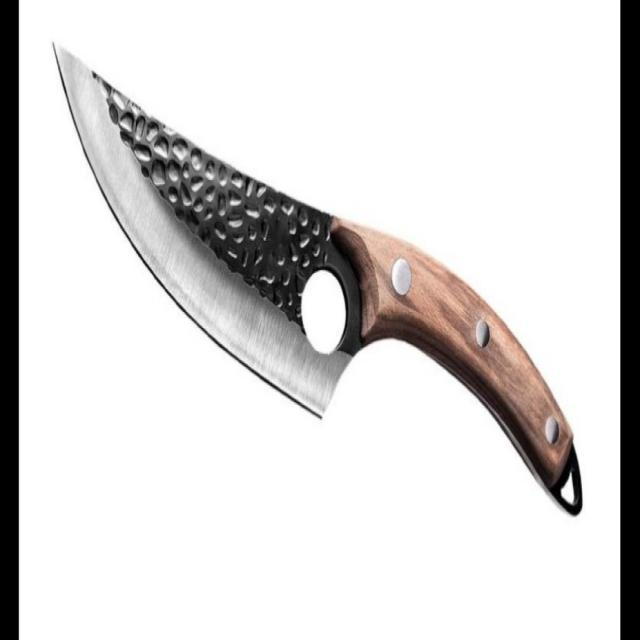knife: (49, 33, 589, 531)
